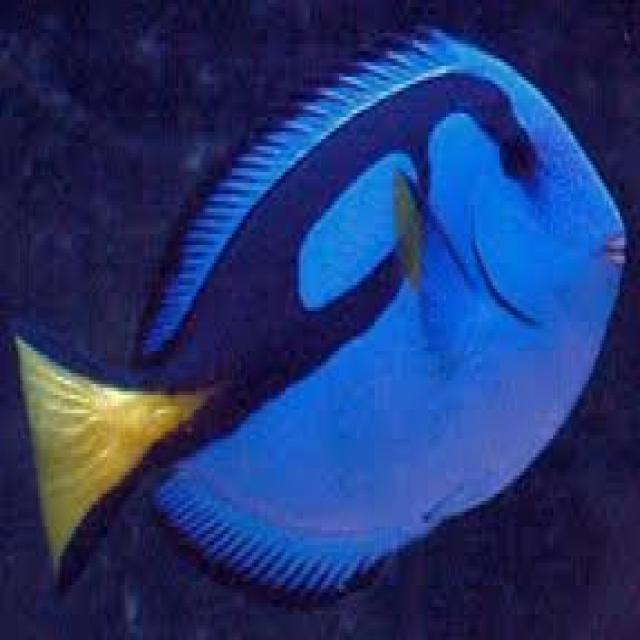BlueTang: (4, 2, 634, 612)
